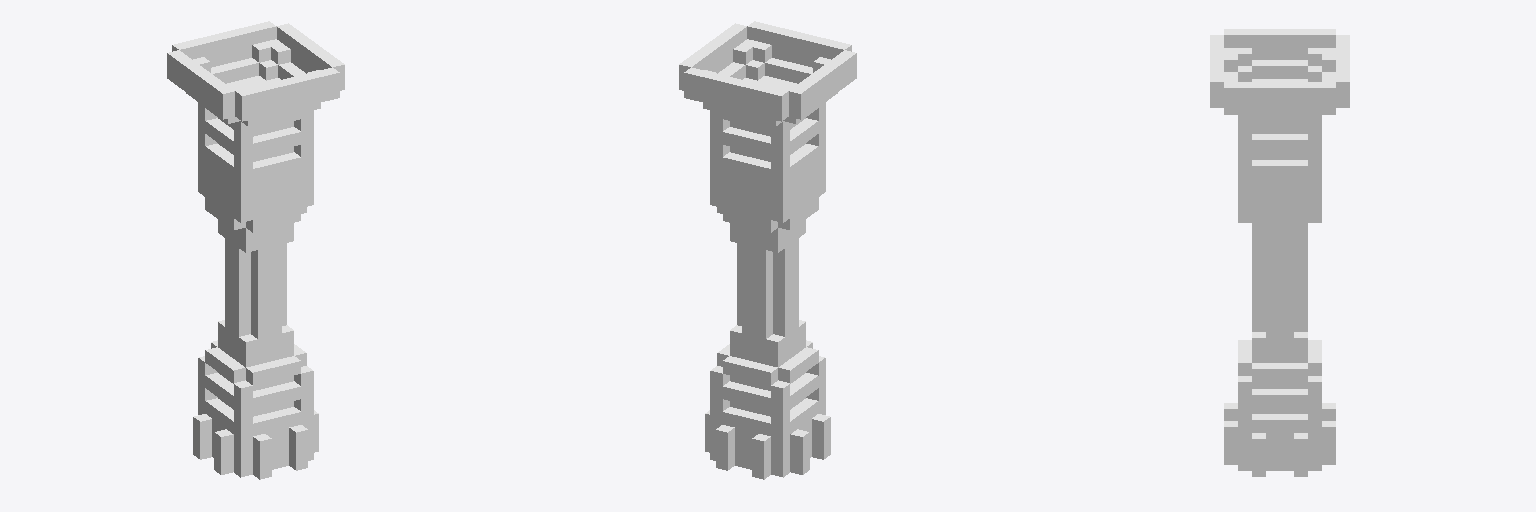
The model's file is Pillar1.obj.
3 renders of one model, left to right at view 1: azimuth 30°, elevation 25°; view 2: azimuth 150°, elevation 25°; view 3: azimuth 270°, elevation 25°, orthographic.
Parts seen in each view (by area): view 1: object 1; view 2: object 1; view 3: object 1.
Part boxes in pixels (left/top/right/bottom): object 1: left=167, top=21, right=344, bottom=479; object 1: left=679, top=21, right=856, bottom=479; object 1: left=1210, top=29, right=1349, bottom=476.
Size of the model in its own units: 1 by 3.1 by 1.